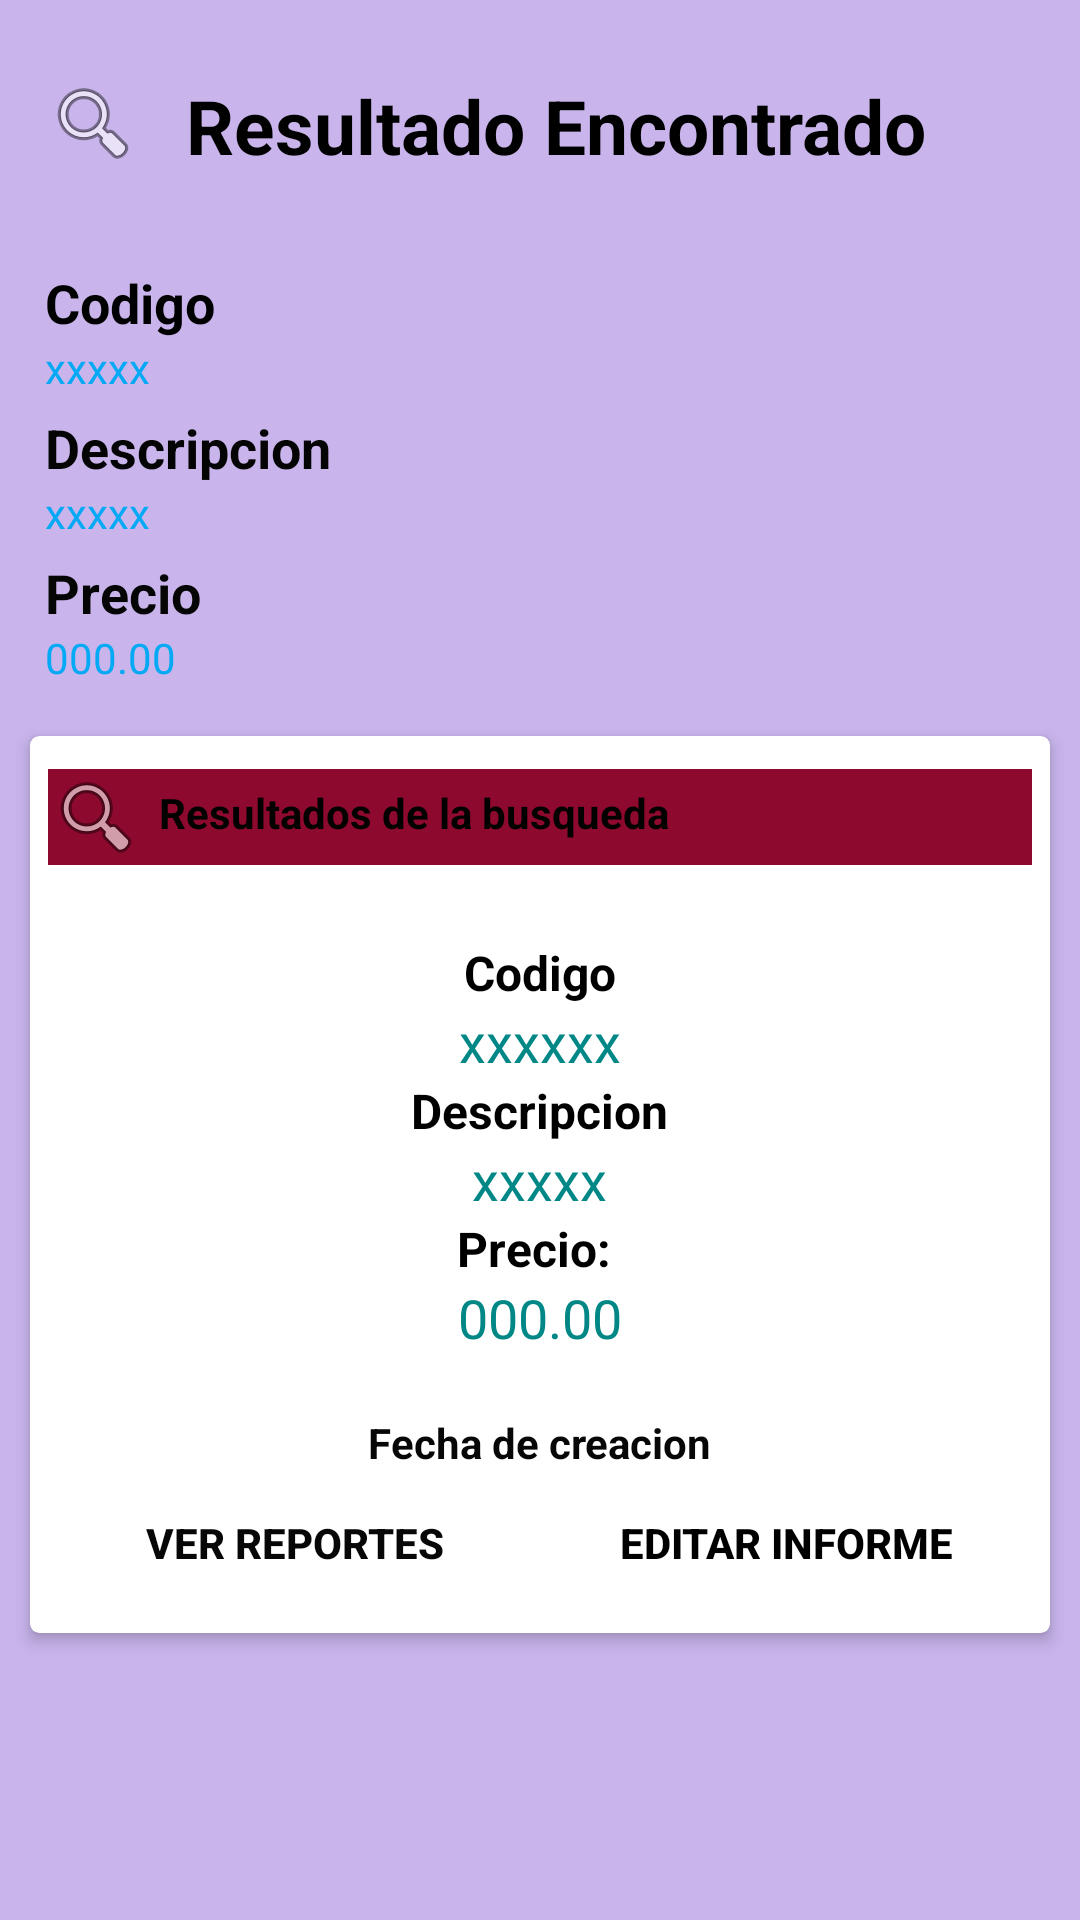

Icons on this 1080px×1920px Android screen, each with its box as detection(x1, y1, x2, y2):
search: detection(57, 88, 129, 159), detection(48, 769, 144, 865)
